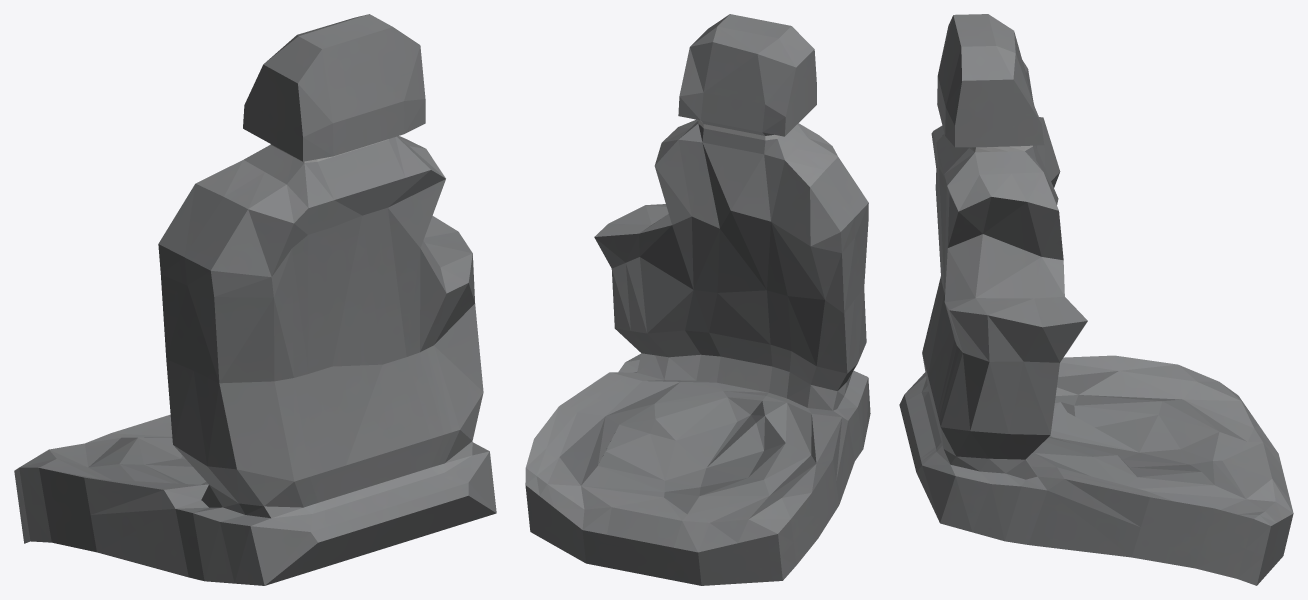
Rendered from car_seat_1.obj.
3 renders of one model, left to right at view 1: azimuth 30°, elevation 25°; view 2: azimuth 150°, elevation 25°; view 3: azimuth 270°, elevation 25°, orthographic. The views are drawn at different scales.
Parts seen in each view (by area): view 1: car_seat_1_Mesh; view 2: car_seat_1_Mesh; view 3: car_seat_1_Mesh.
Boxes of the visible parts, bbox=[...] form: car_seat_1_Mesh: bbox=[14, 14, 496, 585]; car_seat_1_Mesh: bbox=[525, 14, 870, 585]; car_seat_1_Mesh: bbox=[899, 14, 1293, 585].
Bounding box in the file's own units: 0.6608 × 1.06 × 0.7427.
